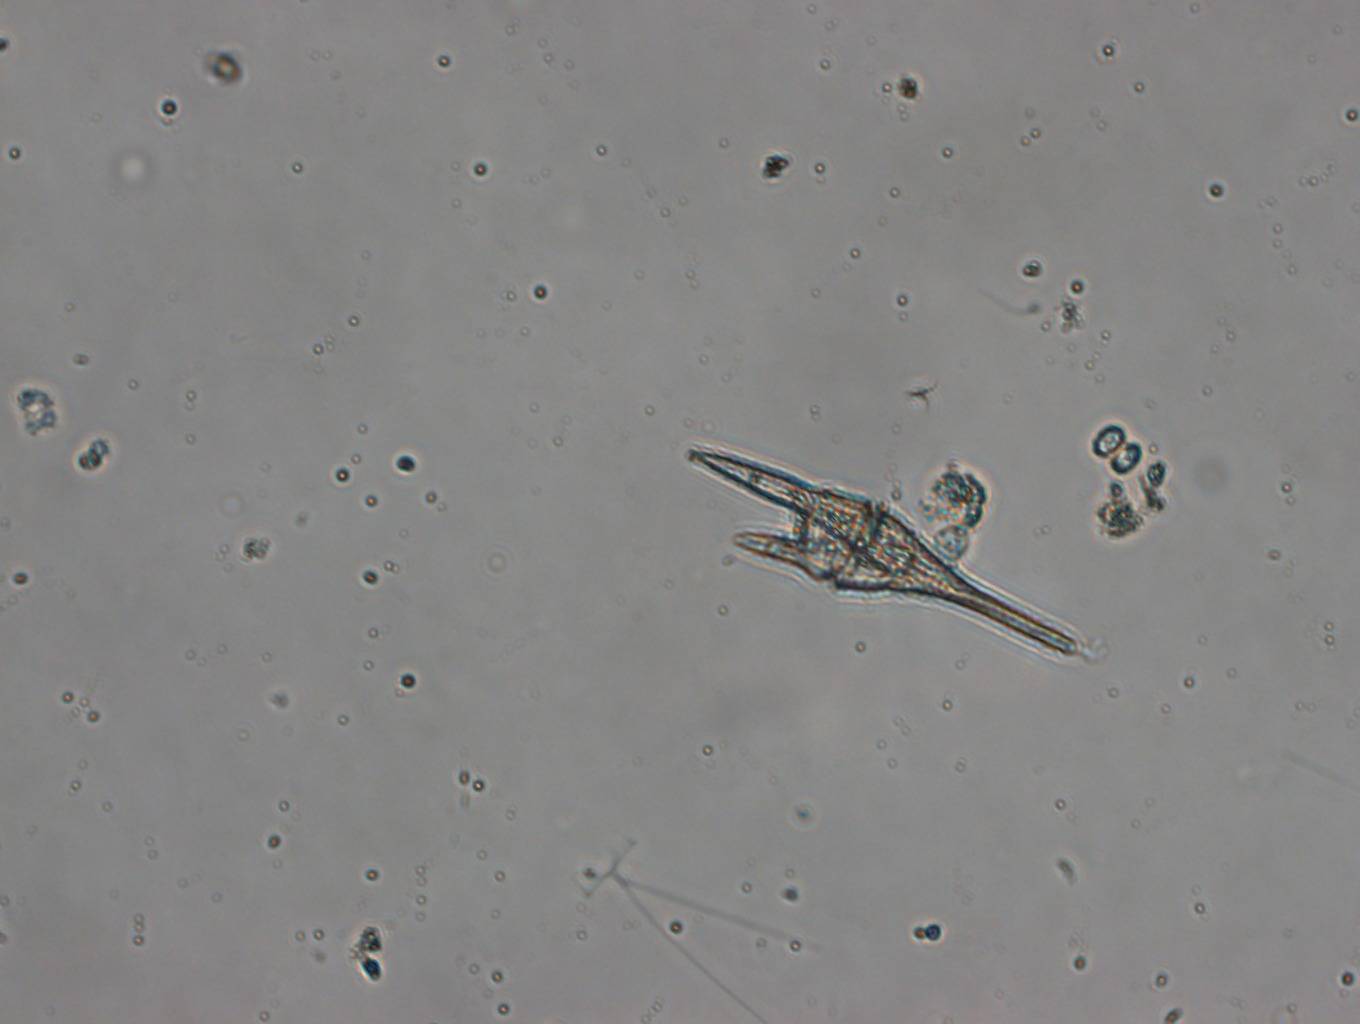ceratium furca: (683, 442, 1087, 666)
